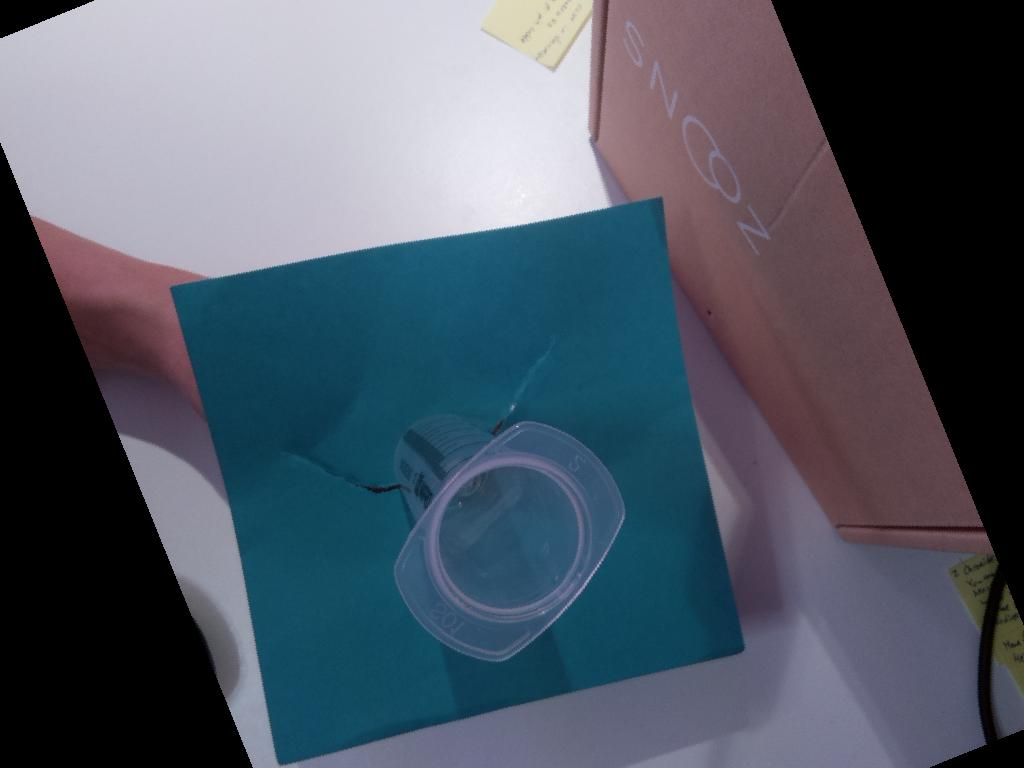clean: (391, 418, 627, 663)
